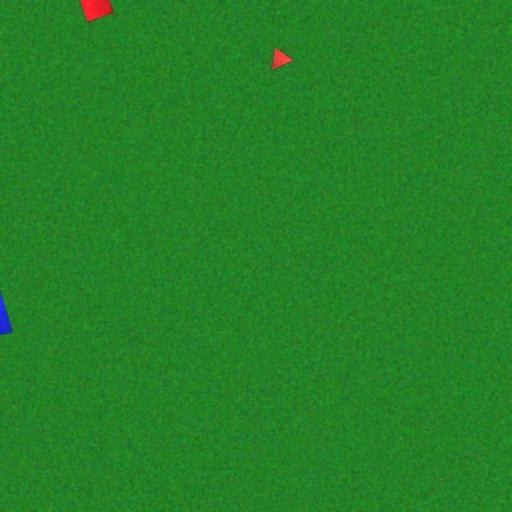RED_SQUARE: (75, 0, 114, 22)
